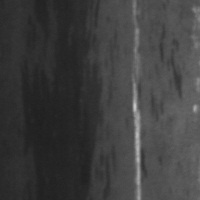inclusion: (24, 1, 104, 198), (154, 24, 185, 102)
scratches: (128, 15, 146, 199)
